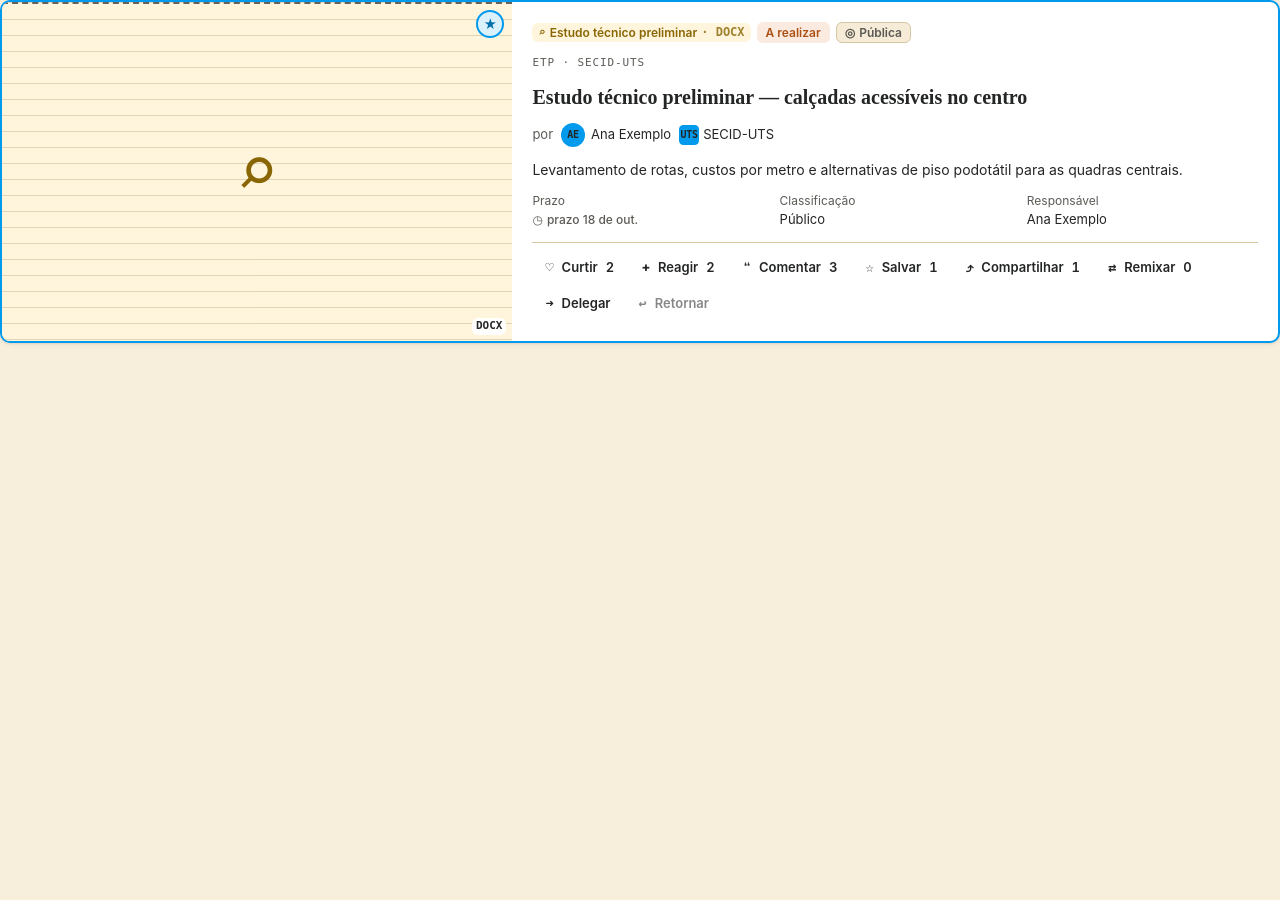
it: SocialBar (RF18.CA01, RF26) › salvar alterna e mostra o estado em texto
What coordinates should you click on to do the following:
click the button with test id "action-save"
I would click on:
 (902, 268)
Its box is [852,250,951,284].
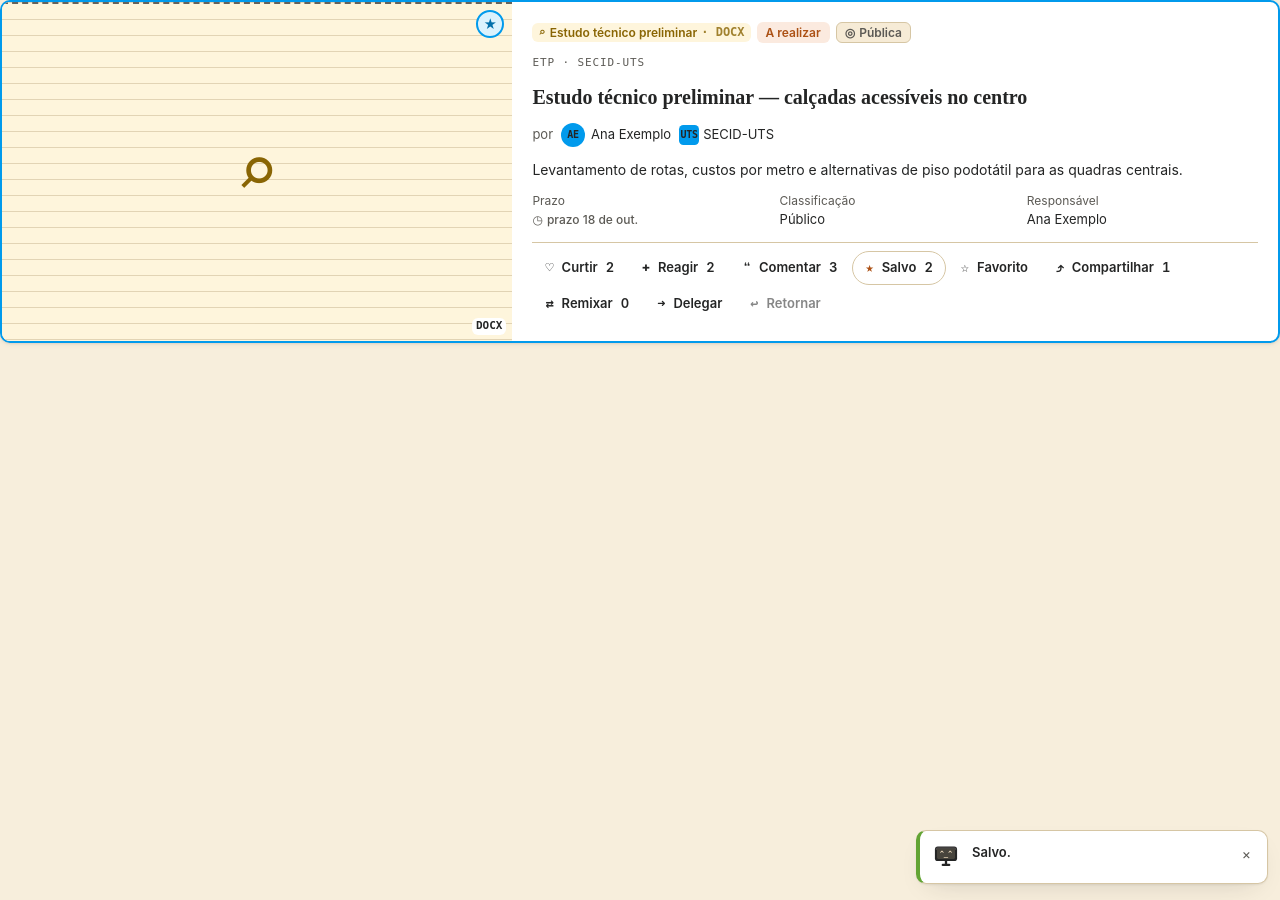
Result: the button with test id "action-save" shows "Salvo" at [852,250,946,284]
Result: the button with test id "action-favorite" is shown at [948,250,1041,284]
